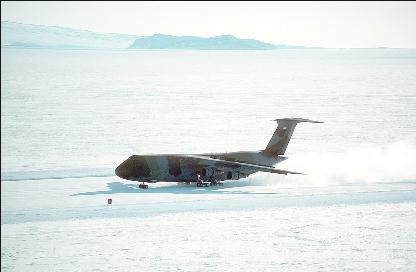C17: (115, 117, 326, 188)
